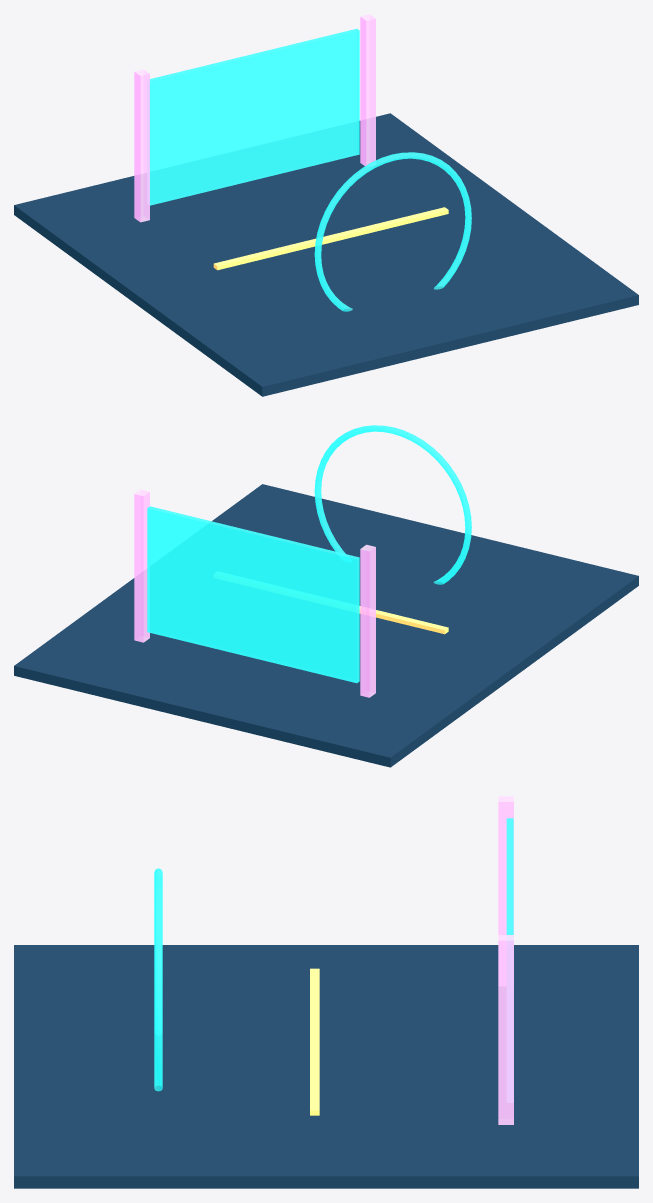
File: replay-memory-environment-v1.candidate.glb
The picture shows the model from 3 angles, top to bottom: view 1: azimuth 30°, elevation 25°; view 2: azimuth 150°, elevation 25°; view 3: azimuth 270°, elevation 25°; orthographic projection. The views are drawn at different scales.
Visible parts, largest first — view 1: replay-theater-floor, replay-screen, replay-entry-portal, replay-frame-left, replay-frame-right, timeline-rail; view 2: replay-theater-floor, replay-screen, replay-entry-portal, replay-frame-left, replay-frame-right, timeline-rail; view 3: replay-theater-floor, replay-frame-right, replay-entry-portal, replay-frame-left, timeline-rail, replay-screen.
Boxes of the visible parts, x1=… form: replay-theater-floor: x1=14, y1=113, x2=638, y2=396; replay-screen: x1=150, y1=28, x2=359, y2=205; replay-entry-portal: x1=314, y1=152, x2=471, y2=311; replay-frame-left: x1=134, y1=69, x2=149, y2=222; replay-frame-right: x1=360, y1=14, x2=375, y2=165; timeline-rail: x1=213, y1=207, x2=448, y2=270; replay-theater-floor: x1=14, y1=484, x2=638, y2=767; replay-screen: x1=147, y1=506, x2=359, y2=683; replay-entry-portal: x1=314, y1=425, x2=471, y2=584; replay-frame-left: x1=360, y1=544, x2=375, y2=697; replay-frame-right: x1=134, y1=489, x2=149, y2=642; timeline-rail: x1=359, y1=606, x2=448, y2=634; replay-theater-floor: x1=14, y1=945, x2=638, y2=1188; replay-frame-right: x1=498, y1=935, x2=513, y2=1124; replay-entry-portal: x1=154, y1=868, x2=162, y2=1091; replay-frame-left: x1=498, y1=796, x2=513, y2=934; timeline-rail: x1=310, y1=968, x2=319, y2=1115; replay-screen: x1=506, y1=818, x2=513, y2=934.
Bounding box in the file's own units: 14 × 6.11 × 16.
